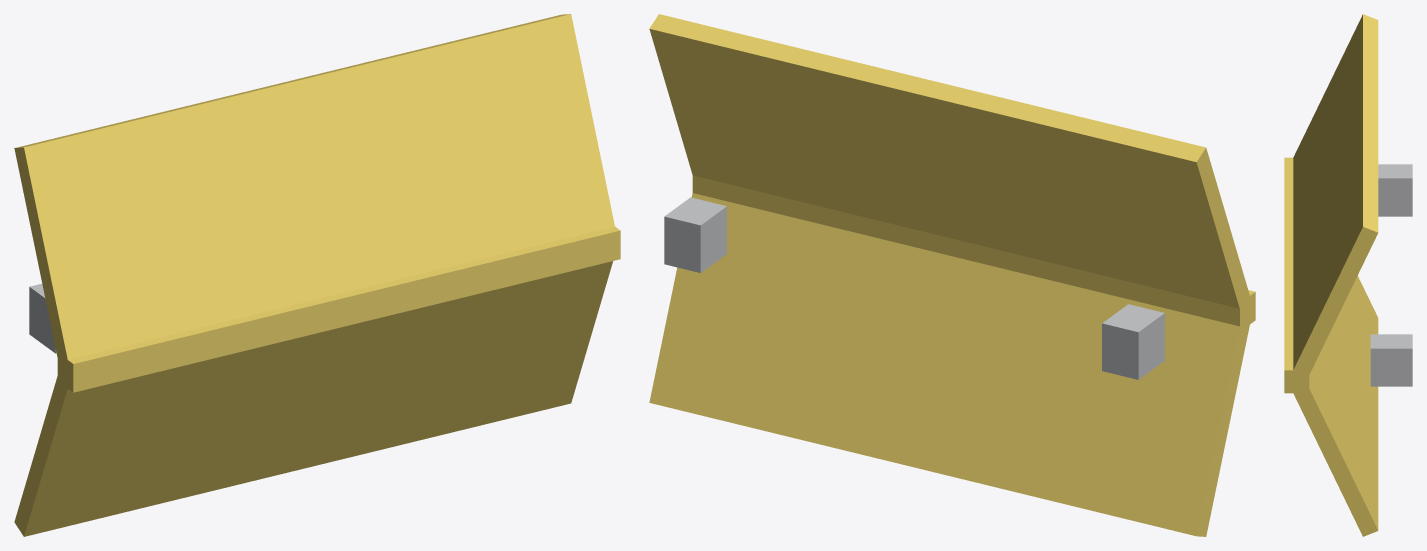
Rendered from roof_panel.glb.
3 renders of one model, left to right at view 1: azimuth 30°, elevation 25°; view 2: azimuth 150°, elevation 25°; view 3: azimuth 270°, elevation 25°, orthographic. The views are drawn at different scales.
Visible parts, largest first — view 1: tool_yellow, plastic_gray; view 2: tool_yellow, plastic_gray; view 3: tool_yellow, plastic_gray.
Part boxes in pixels (x1,y1,x2,y2): tool_yellow: [14, 14, 620, 536]; plastic_gray: [29, 283, 56, 353]; tool_yellow: [649, 14, 1255, 536]; plastic_gray: [664, 197, 1164, 379]; tool_yellow: [1284, 14, 1378, 536]; plastic_gray: [1370, 164, 1412, 386].
Size of the model in its own units: 0.12 by 0.0816 by 0.0306.
